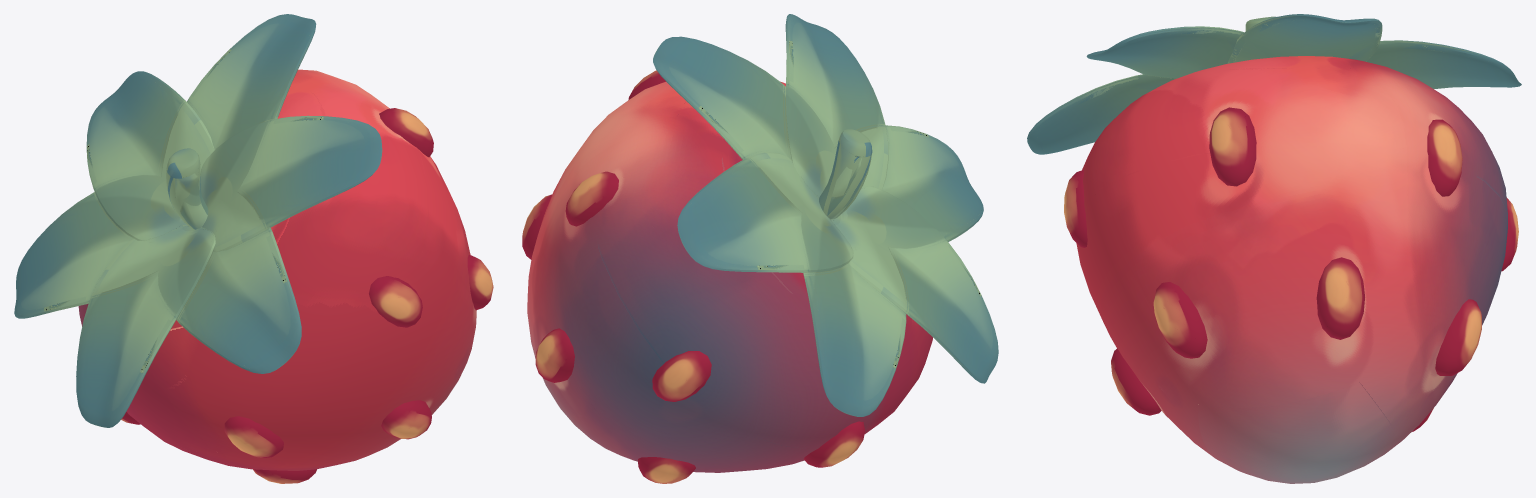
Rendered from Strawberry-2.glb.
3 renders of one model, left to right at view 1: azimuth 30°, elevation 25°; view 2: azimuth 150°, elevation 25°; view 3: azimuth 270°, elevation 25°, orthographic. The views are drawn at different scales.
Parts seen in each view (by area): view 1: Plane.007, Plane, Cube.001; view 2: Plane, Plane.007, Cube.001; view 3: Plane, Plane.007, Cube.001.
Part boxes in pixels (x1,y1,x2,y2): Plane.007: [14, 14, 382, 427]; Plane: [78, 69, 476, 470]; Cube.001: [121, 108, 493, 483]; Plane: [527, 81, 932, 472]; Plane.007: [653, 14, 998, 416]; Cube.001: [522, 70, 865, 483]; Plane: [1076, 56, 1507, 483]; Plane.007: [1027, 14, 1521, 154]; Cube.001: [1064, 107, 1518, 431].
Size of the model in its own units: 1.89 by 1.9 by 1.87.
Materials: 3 (3 with a texture image).
